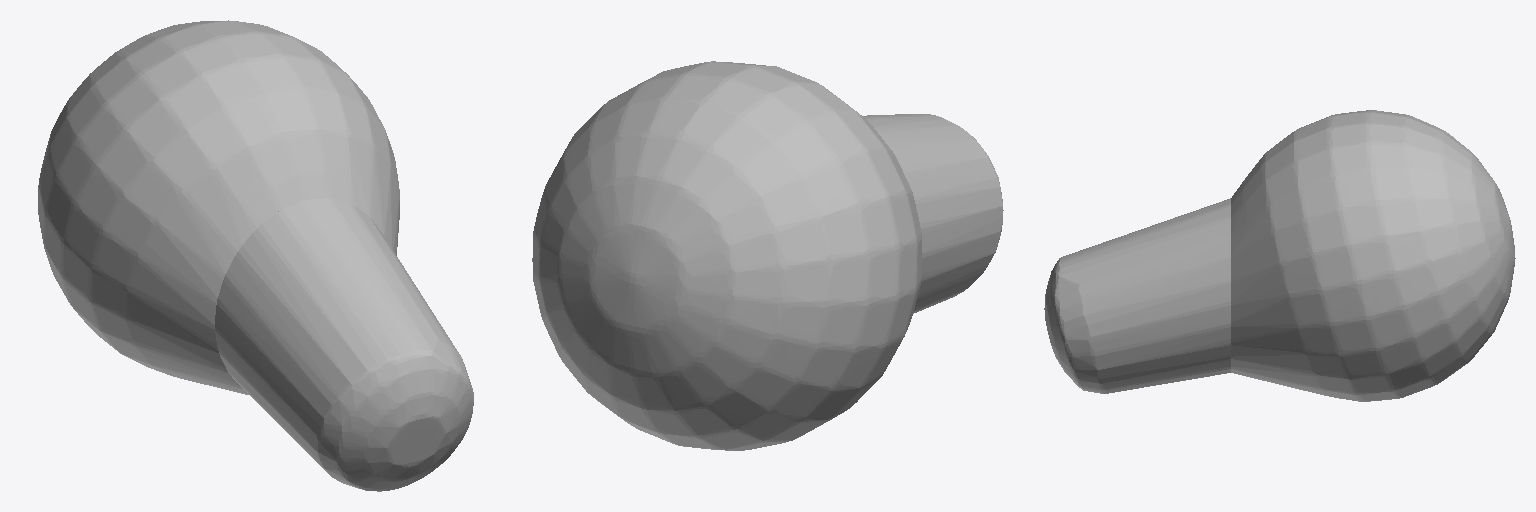
robot.urdf — root:
<robot name="root">
  <link name="link_coacd_convex_piece_0">
    <inertial>
      <origin xyz="0 0 0" rpy="0 0 0"/>
      <inertia ixx="6.06E-02" ixy="-1.55E-04" ixz="-2.50E-05" iyy="1.71E-02" iyz="-2.30E-02" izz="5.18E-02"/>
    </inertial>
    <visual>
      <origin xyz="0 0 0" rpy="0 0 0"/>
      <geometry>
        <mesh filename="coacd_convex_piece_0.obj" scale="1.0000E+00 1.0000E+00 1.0000E+00"/>
      </geometry>
      <material name="">
        <color rgba="7.50E-01 7.50E-01 7.50E-01 1"/>
      </material>
    </visual>
    <collision>
      <origin xyz="0 0 0" rpy="0 0 0"/>
      <geometry>
        <mesh filename="coacd_convex_piece_0.obj" scale="1.0000E+00 1.0000E+00 1.0000E+00"/>
      </geometry>
    </collision>
  </link>
  <link name="link_coacd_convex_piece_1">
    <inertial>
      <origin xyz="0 0 0" rpy="0 0 0"/>
      <inertia ixx="1.59E-01" ixy="-9.14E-06" ixz="-1.55E-06" iyy="9.83E-02" iyz="-6.91E-03" izz="1.59E-01"/>
    </inertial>
    <visual>
      <origin xyz="0 0 0" rpy="0 0 0"/>
      <geometry>
        <mesh filename="coacd_convex_piece_1.obj" scale="1.0000E+00 1.0000E+00 1.0000E+00"/>
      </geometry>
      <material name="">
        <color rgba="7.50E-01 7.50E-01 7.50E-01 1"/>
      </material>
    </visual>
    <collision>
      <origin xyz="0 0 0" rpy="0 0 0"/>
      <geometry>
        <mesh filename="coacd_convex_piece_1.obj" scale="1.0000E+00 1.0000E+00 1.0000E+00"/>
      </geometry>
    </collision>
  </link>
  <joint name="link_coacd_convex_piece_1_joint" type="fixed">
    <origin xyz="0 0 0" rpy="0 0 0"/>
    <parent link="link_coacd_convex_piece_0"/>
    <child link="link_coacd_convex_piece_1"/>
  </joint>
</robot>

--- Render facts (derived) ---
The picture shows the robot from 3 angles, left to right: view 1: azimuth 30°, elevation 25°; view 2: azimuth 150°, elevation 25°; view 3: azimuth 270°, elevation 25°; orthographic projection.
Robot: root — 2 links, 1 joints (1 fixed); root link link_coacd_convex_piece_0; default pose: every joint at zero.
Visible links, largest first — view 1: link_coacd_convex_piece_1, link_coacd_convex_piece_0; view 2: link_coacd_convex_piece_1, link_coacd_convex_piece_0; view 3: link_coacd_convex_piece_1, link_coacd_convex_piece_0.
Boxes of the visible links, x1=… form: link_coacd_convex_piece_1: x1=38, y1=20, x2=399, y2=394; link_coacd_convex_piece_0: x1=215, y1=198, x2=473, y2=491; link_coacd_convex_piece_1: x1=532, y1=61, x2=921, y2=450; link_coacd_convex_piece_0: x1=863, y1=114, x2=1003, y2=313; link_coacd_convex_piece_1: x1=1231, y1=110, x2=1515, y2=401; link_coacd_convex_piece_0: x1=1044, y1=198, x2=1230, y2=393.
Size in the robot's own frame: 1.16 by 1.86 by 1.16 metres.
2 mesh visuals loaded from 2 distinct referenced files (2 OBJ).
